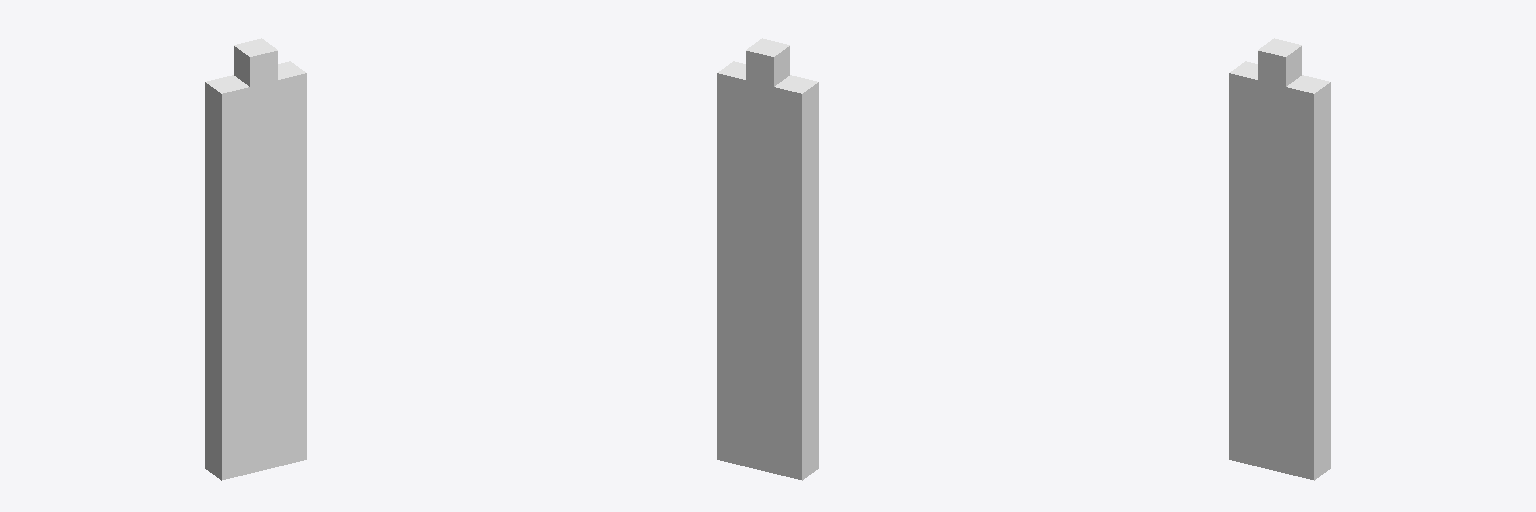
Rendered from fense.obj.
The picture shows the model from 3 angles: view 1: azimuth 30°, elevation 25°; view 2: azimuth 150°, elevation 25°; view 3: azimuth 330°, elevation 25°; orthographic projection.
Parts seen in each view (by area): view 1: object 1; view 2: object 1; view 3: object 1.
Boxes of the visible parts, x1=… form: object 1: x1=205, y1=38, x2=306, y2=480; object 1: x1=717, y1=38, x2=818, y2=480; object 1: x1=1229, y1=38, x2=1330, y2=480.
Bounding box in the file's own units: 0.3 × 1.4 × 0.1.